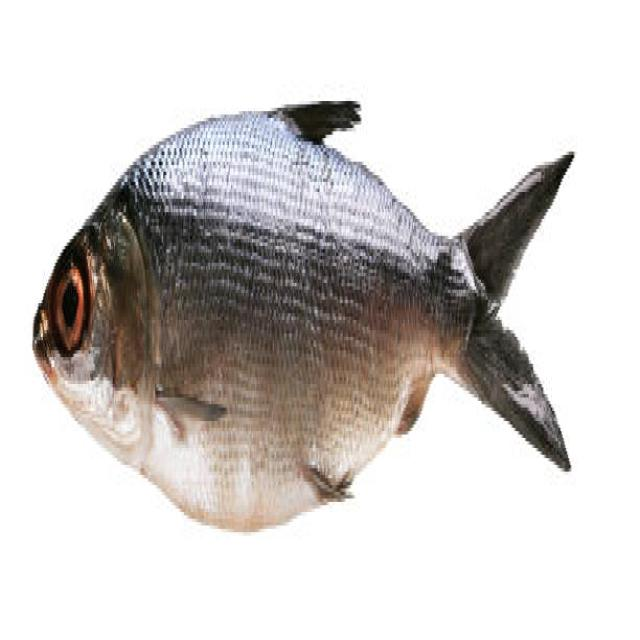Bangus: (24, 17, 586, 592)
